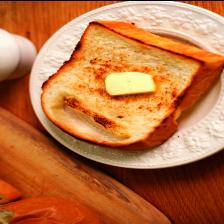bread: (40, 19, 224, 150)
